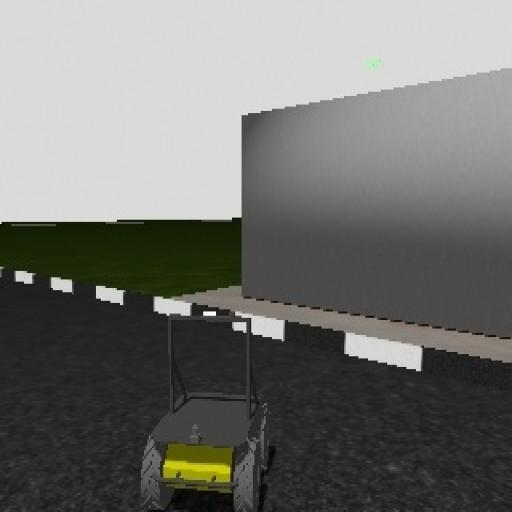huskya200: (121, 288, 281, 512)
